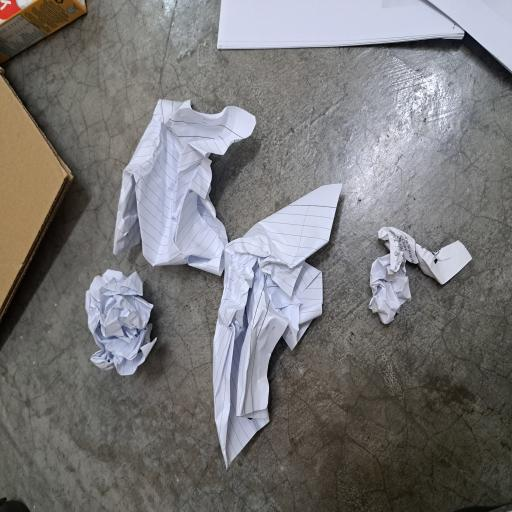cardboard: (140, 0, 332, 100)
drink carton: (334, 0, 384, 117)
paper: (32, 282, 246, 459), (176, 150, 312, 342), (332, 288, 383, 512), (104, 114, 182, 209)
